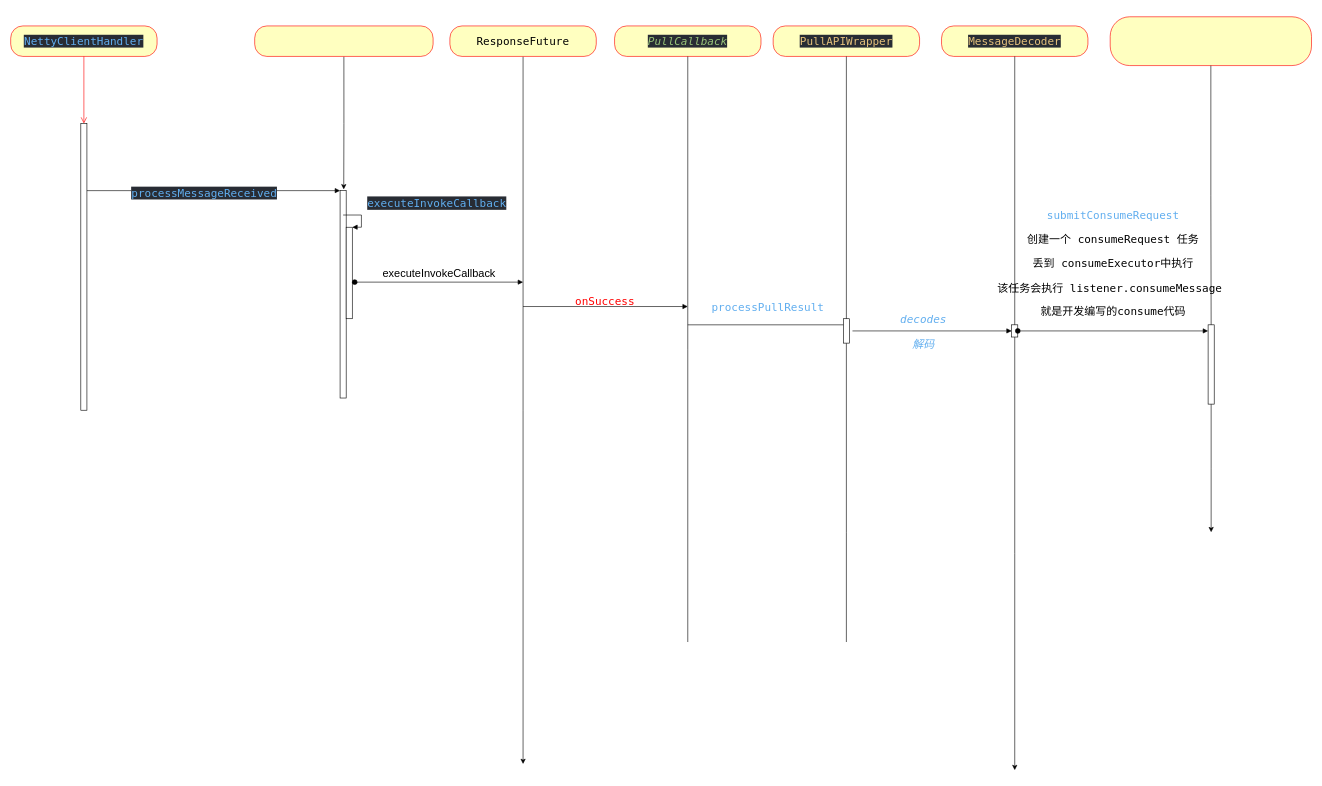
Image size: 1322x786. Some labels were removed from this diagram. The box of each missing label's shape, as (x1, y1, x2, y2) in pixels:
DefaultMQPushConsumerImpl. ConsumeMessageService: (1110, 16, 1312, 66)
NettyRemotingAbstract: (254, 25, 433, 56)
